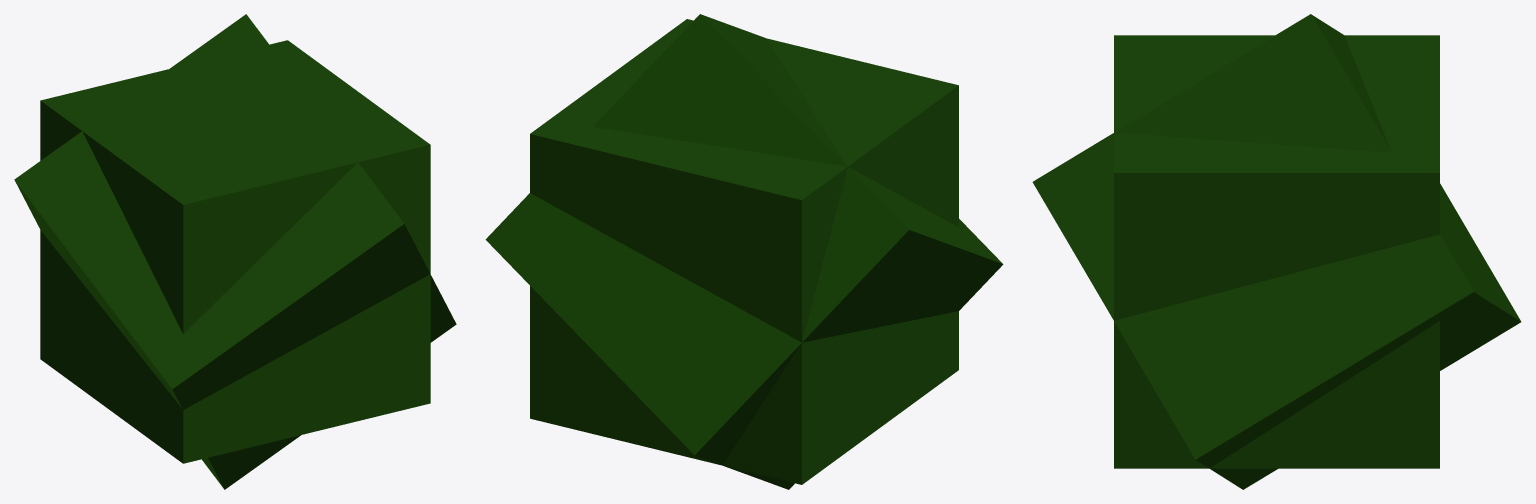
Rendered from bush.fbx.
3 views of the same model, side by side, from view 1: azimuth 30°, elevation 25°; view 2: azimuth 150°, elevation 25°; view 3: azimuth 270°, elevation 25° (orthographic). The views are drawn at different scales.
Visible parts, largest first — view 1: Cube.002; view 2: Cube.002; view 3: Cube.002.
Part boxes in pixels (x1,y1,x2,y2): Cube.002: (14,14,456,489); Cube.002: (485,14,1003,489); Cube.002: (1032,14,1521,489).
Size of the model in its own units: 456 by 519 by 456.
